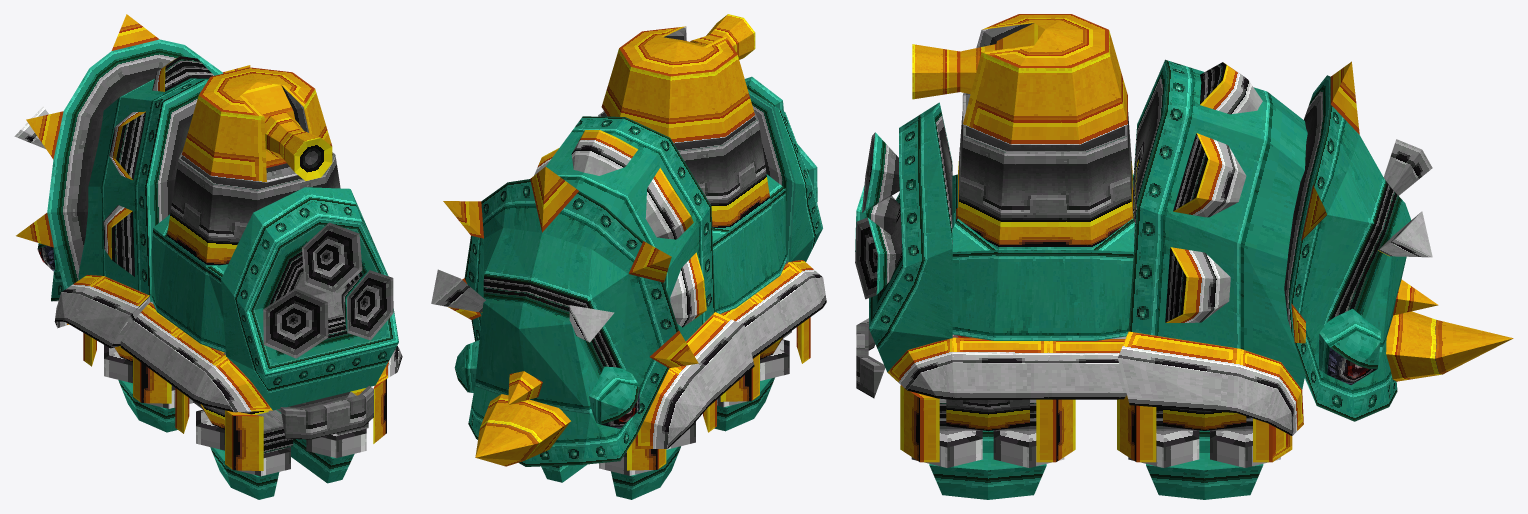
File: rhinoliner.obj
3 renders of one model, left to right at view 1: azimuth 30°, elevation 25°; view 2: azimuth 150°, elevation 25°; view 3: azimuth 270°, elevation 25°, orthographic. The views are drawn at different scales.
Visible parts, largest first — view 1: Object_13, Object_15, Object_20, Object_18, obj1, Object_21, Object_19, Object_17, Object_16, obj2, Object_3, Object_12 (+4 smaller); view 2: Object_18, Object_15, obj1, Object_20, Object_14, Object_13, Object_21, Object_19, Object_17, Object_6, obj2, Object_3 (+1 smaller); view 3: Object_15, Object_20, Object_18, Object_13, obj1, Object_21, Object_14, Object_19, Object_17, Object_23, Object_12, Object_9 (+3 smaller).
Boxes of the visible parts, bbox=[...] form: Object_13: bbox=[221, 187, 398, 410]; Object_15: bbox=[54, 56, 214, 348]; Object_20: bbox=[151, 151, 340, 352]; Object_18: bbox=[16, 14, 250, 301]; obj1: bbox=[181, 67, 332, 182]; Object_21: bbox=[120, 301, 402, 412]; Object_19: bbox=[83, 333, 386, 470]; Object_17: bbox=[104, 345, 366, 476]; Object_16: bbox=[276, 385, 373, 439]; obj2: bbox=[265, 112, 332, 180]; Object_3: bbox=[210, 447, 279, 499]; Object_12: bbox=[291, 439, 354, 483]; Object_18: bbox=[443, 166, 698, 466]; Object_15: bbox=[534, 116, 754, 449]; obj1: bbox=[601, 26, 754, 143]; Object_20: bbox=[598, 111, 787, 313]; Object_14: bbox=[431, 269, 639, 466]; Object_13: bbox=[745, 76, 822, 261]; Object_21: bbox=[720, 260, 826, 358]; Object_19: bbox=[627, 317, 810, 470]; Object_17: bbox=[599, 339, 789, 475]; Object_6: bbox=[611, 446, 680, 499]; obj2: bbox=[690, 14, 755, 59]; Object_3: bbox=[714, 377, 774, 431]; Object_15: bbox=[1118, 59, 1307, 435]; Object_20: bbox=[952, 111, 1134, 340]; Object_18: bbox=[1284, 61, 1410, 421]; Object_13: bbox=[855, 102, 952, 371]; obj1: bbox=[962, 14, 1127, 144]; Object_21: bbox=[887, 334, 1126, 399]; Object_14: bbox=[1319, 139, 1513, 385]; Object_19: bbox=[900, 385, 1292, 462]; Object_17: bbox=[911, 430, 1280, 467]; Object_23: bbox=[946, 399, 1246, 430]; Object_12: bbox=[929, 453, 1046, 499]; Object_9: bbox=[1146, 453, 1263, 499].
Size of the model in its own units: 29.53 by 40.54 by 54.78.
3 materials, 3 textured.
